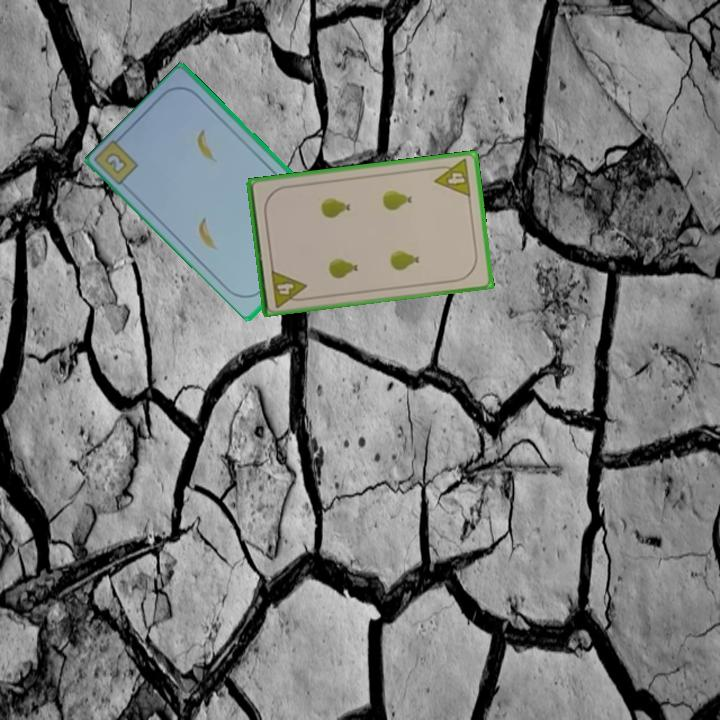2b: (102, 149, 131, 177)
4p: (430, 155, 474, 200), (267, 266, 310, 310)
